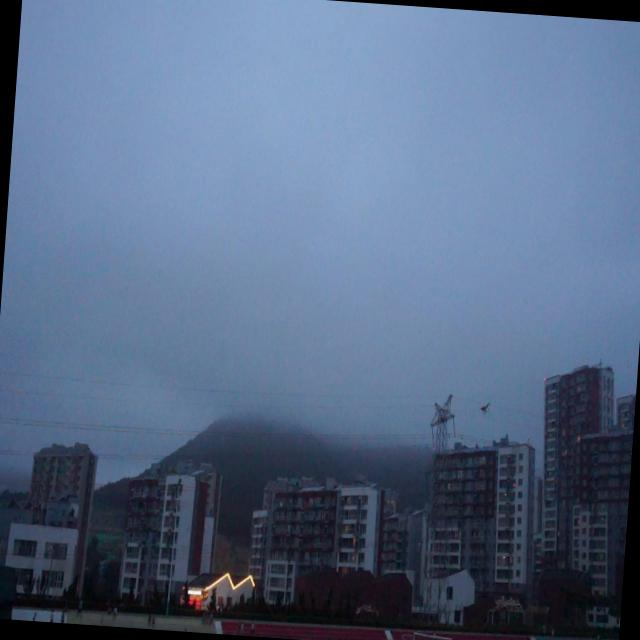drone: (478, 397, 492, 415)
